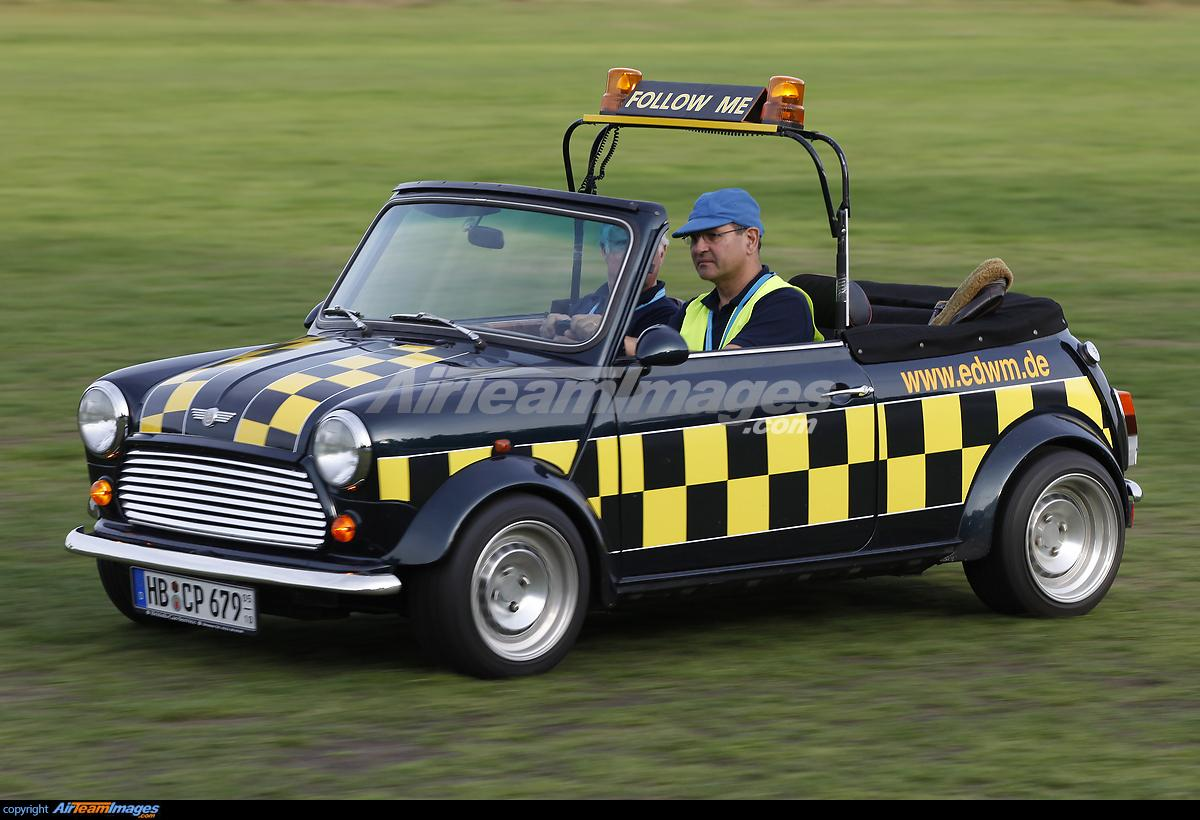small: (65, 65, 1145, 680)
